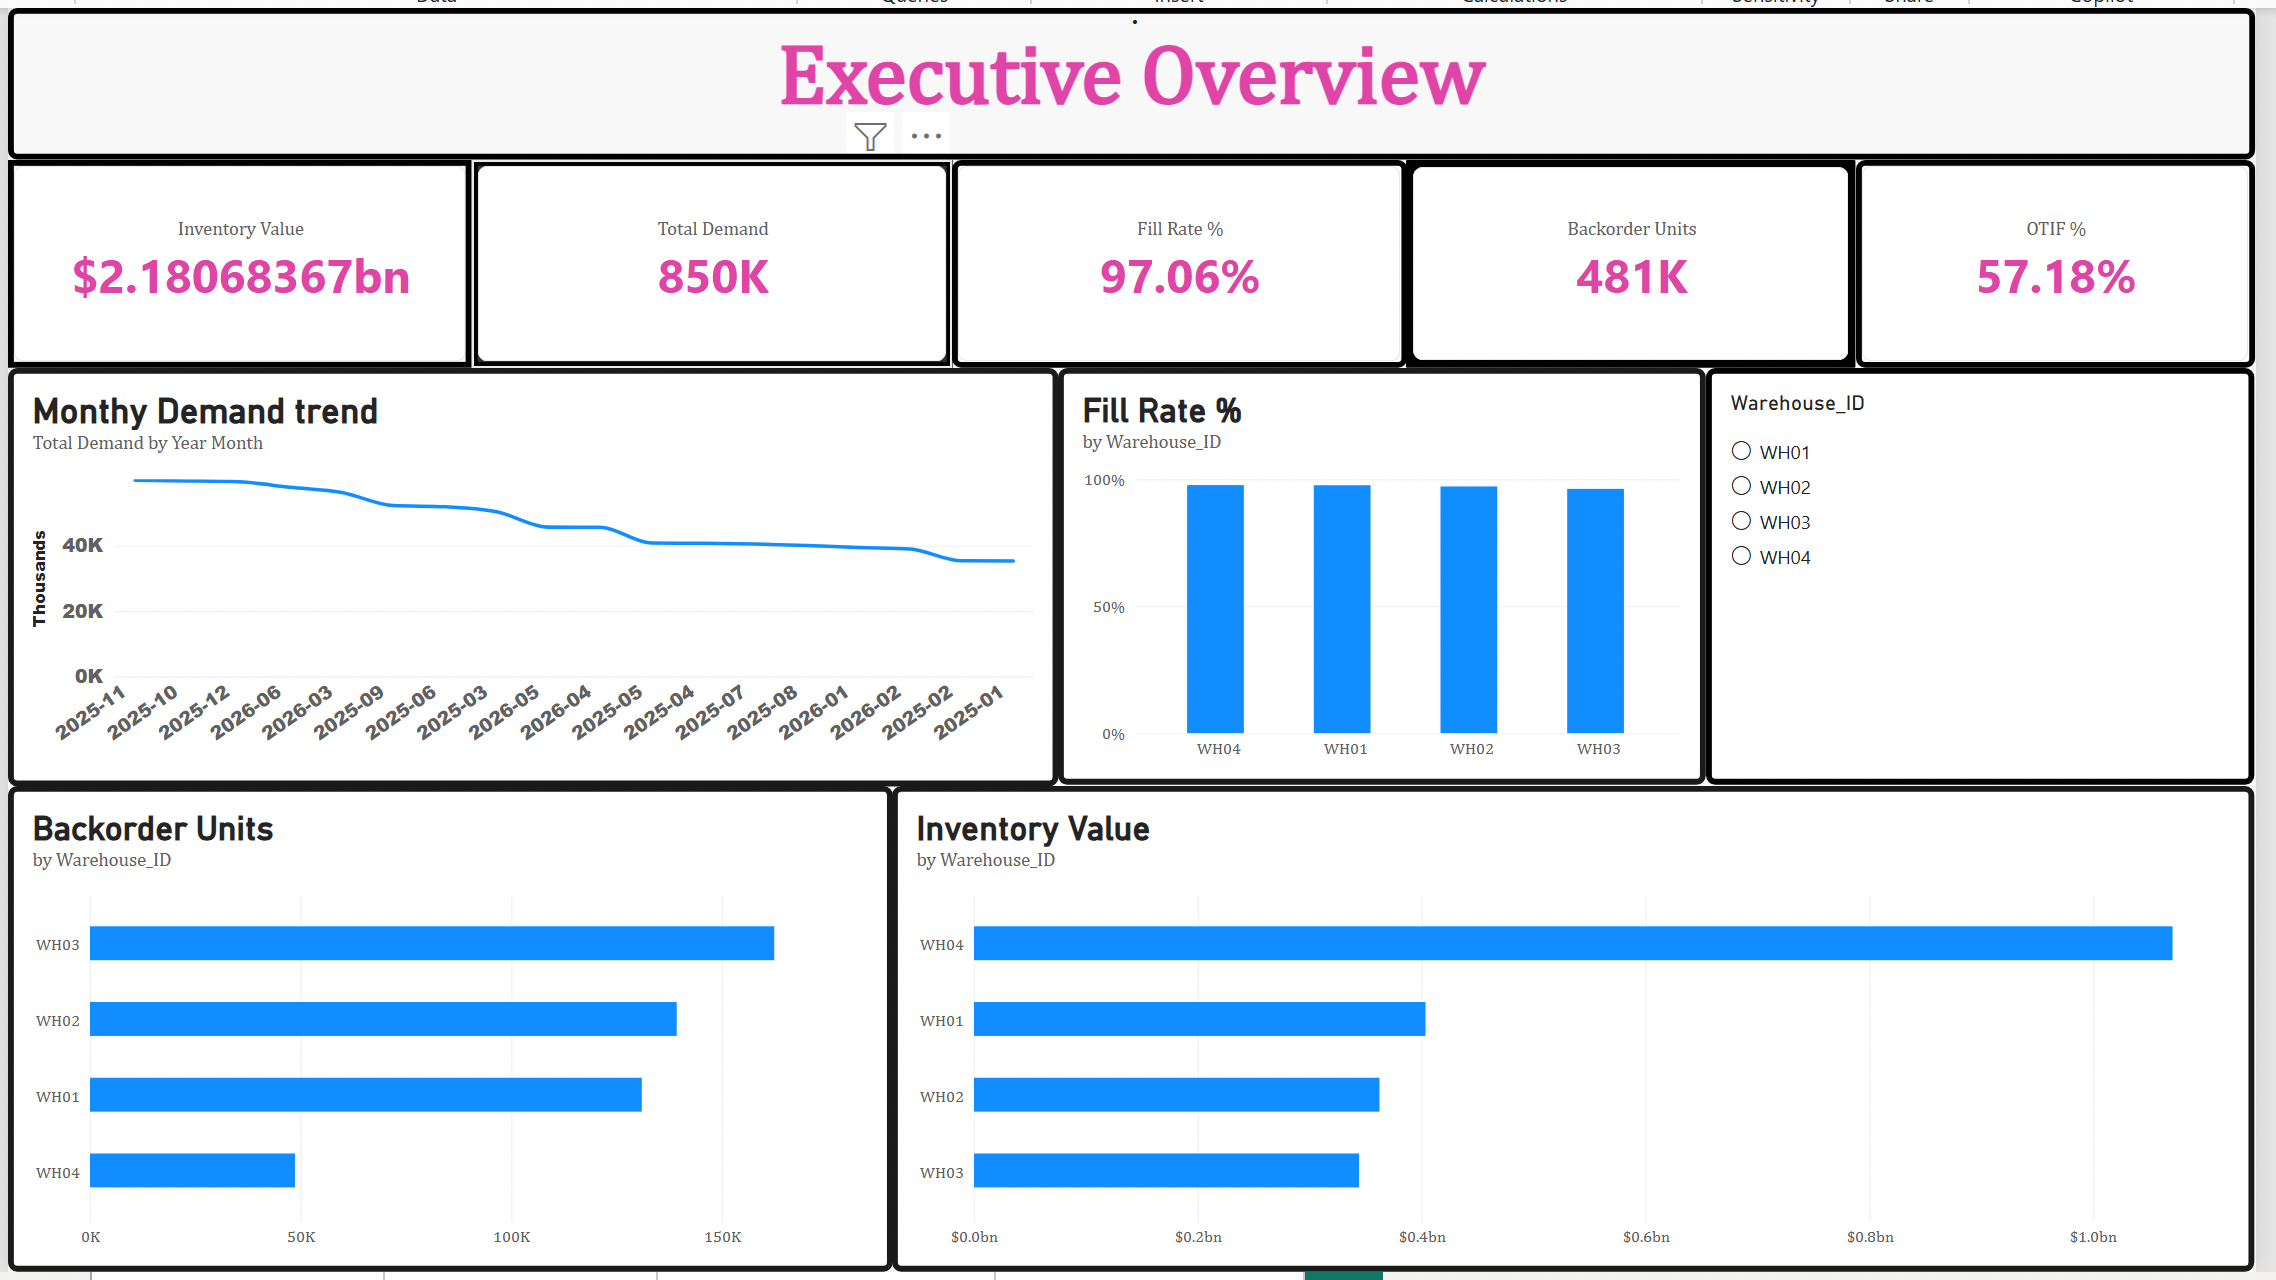

This screenshot's page, from the dashboard's own definition file:
{"tool":"powerbi","page":{"name":"Executive Overview","canvas":[1920,1080],"ordinal":0},"visuals":[{"type":"cardVisual","fields":{"Data":["inventory_snapshots.Inventory Value"]},"box":[0,129.6,396,177.6],"z":0},{"type":"cardVisual","fields":{"Data":["sales_Demand.Total Demand"]},"box":[396,129.6,410.4,177.6],"z":1000},{"type":"cardVisual","fields":{"Data":["sales_Demand.Fill Rate %"]},"box":[806.4,129.6,388.8,177.6],"z":2000},{"type":"cardVisual","fields":{"Data":["inventory_snapshots.Backorder Units"]},"box":[1195.2,129.6,384,177.6],"z":3000},{"type":"cardVisual","fields":{"Data":["Purchase_Order.OTIF %"]},"box":[1579.2,129.6,340.8,177.6],"z":4000},{"type":"lineChart","title":"Monthy Demand trend","fields":{"Category":["DateTable.Year Month"],"Y":["sales_Demand.Total Demand"]},"box":[0,307.2,897.6,357.6],"z":5000},{"type":"clusteredBarChart","fields":{"Category":["Warehouse_Master.Warehouse_ID"],"Y":["inventory_snapshots.Backorder Units"]},"box":[0,664.8,756,415.2],"z":6000},{"type":"barChart","fields":{"Category":["Warehouse_Master.Warehouse_ID"],"Y":["inventory_snapshots.Inventory Value"]},"box":[756,664.8,1164,415.2],"z":7000},{"type":"columnChart","fields":{"Y":["sales_Demand.Fill Rate %"],"Category":["Warehouse_Master.Warehouse_ID"]},"box":[898,307.8,553.5,356],"z":8000},{"type":"textbox","box":[0,0,1920,129.6],"z":9000},{"type":"listSlicer","fields":{"Values":["inventory_snapshots.Warehouse_ID"]},"box":[1451.5,307.8,468.5,356],"z":9001}]}

Visuals, with their boxes in screenshot pixels (x1, y1, x2, y2):
cardVisual - inventory_snapshots.Inventory Value: bbox(0, 152, 463, 359)
cardVisual - sales_Demand.Total Demand: bbox(463, 152, 943, 359)
cardVisual - sales_Demand.Fill Rate %: bbox(943, 152, 1397, 359)
cardVisual - inventory_snapshots.Backorder Units: bbox(1397, 152, 1846, 359)
cardVisual - Purchase_Order.OTIF %: bbox(1846, 152, 2245, 359)
"Monthy Demand trend" lineChart: bbox(0, 359, 1049, 777)
clusteredBarChart - Warehouse_Master.Warehouse_ID x inventory_snapshots.Backorder Units: bbox(0, 777, 884, 1263)
barChart - Warehouse_Master.Warehouse_ID x inventory_snapshots.Inventory Value: bbox(884, 777, 2245, 1263)
columnChart - sales_Demand.Fill Rate % x Warehouse_Master.Warehouse_ID: bbox(1050, 360, 1697, 776)
textbox: bbox(0, 0, 2245, 152)
listSlicer - inventory_snapshots.Warehouse_ID: bbox(1697, 360, 2245, 776)
